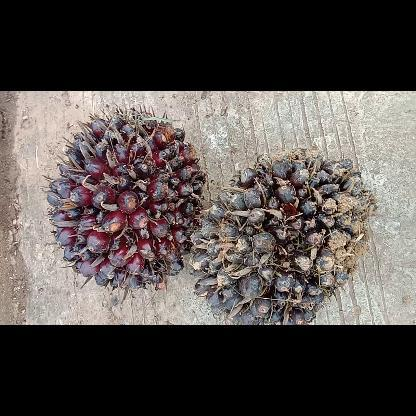TBS mentah: (188, 148, 378, 324), (43, 105, 207, 294)
